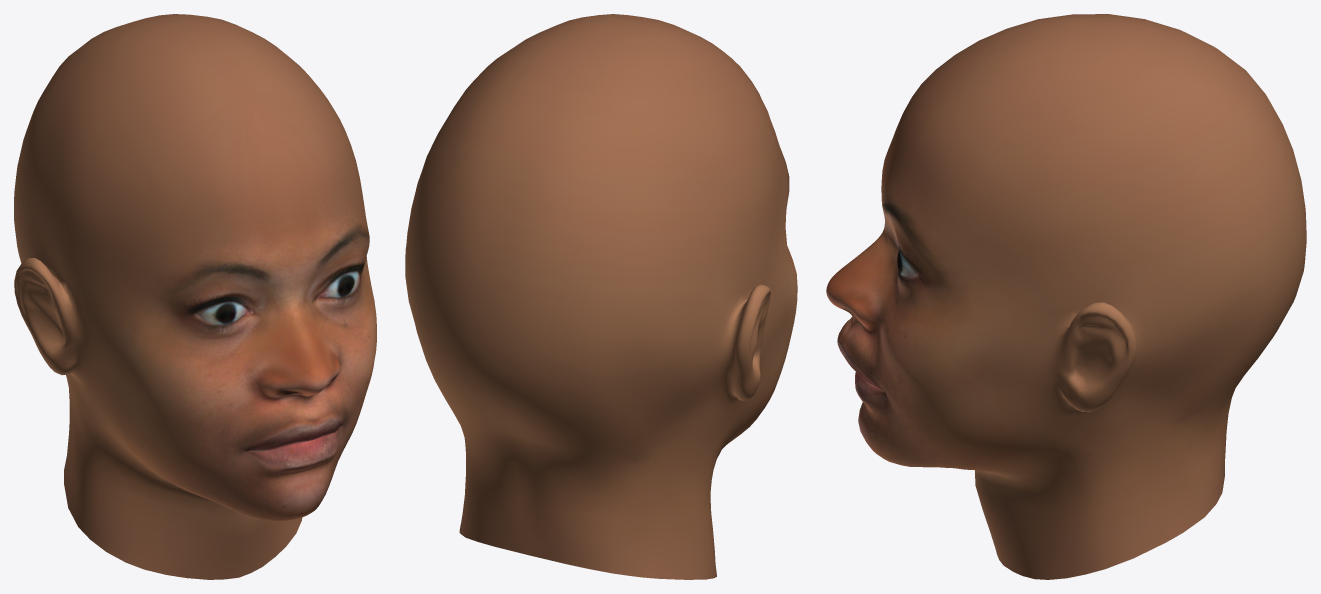
The model's file is v332_obj_PhonemeF,V.obj.
The picture shows the model from 3 angles, left to right: view 1: azimuth 30°, elevation 25°; view 2: azimuth 150°, elevation 25°; view 3: azimuth 270°, elevation 25°; orthographic projection. The views are drawn at different scales.
Visible parts, largest first — view 1: HeadHires; view 2: HeadHires; view 3: HeadHires.
Part boxes in pixels (<box>): HeadHires: <box>14,14,376,579</box>; HeadHires: <box>405,14,797,579</box>; HeadHires: <box>826,14,1306,579</box>.
Bounding box in the file's own units: 187 × 282 × 233.
